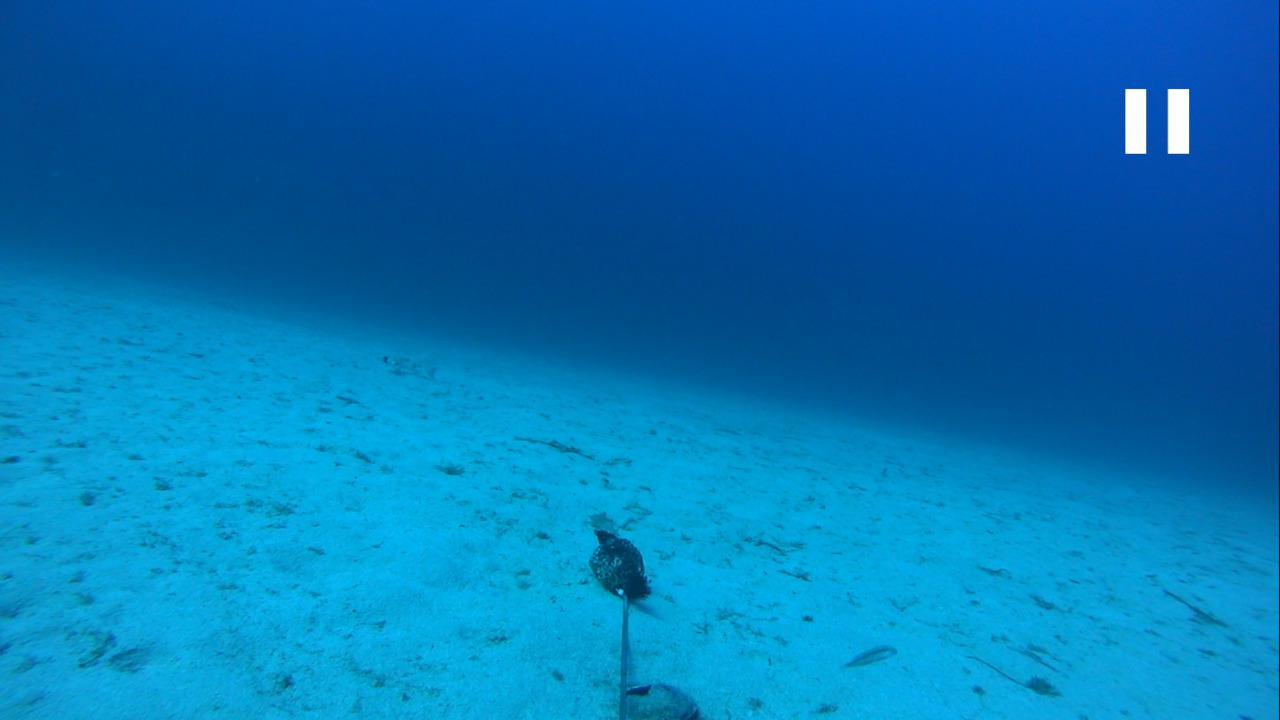dactylopterus: (355, 346, 435, 389)
